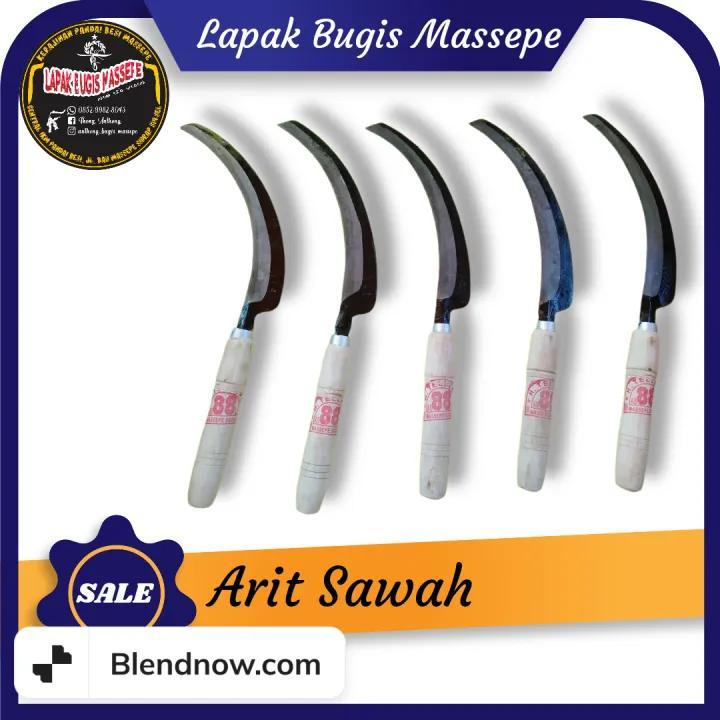foice: (474, 110, 576, 501), (184, 117, 286, 505), (370, 120, 471, 508), (584, 108, 672, 494), (284, 120, 374, 487)
